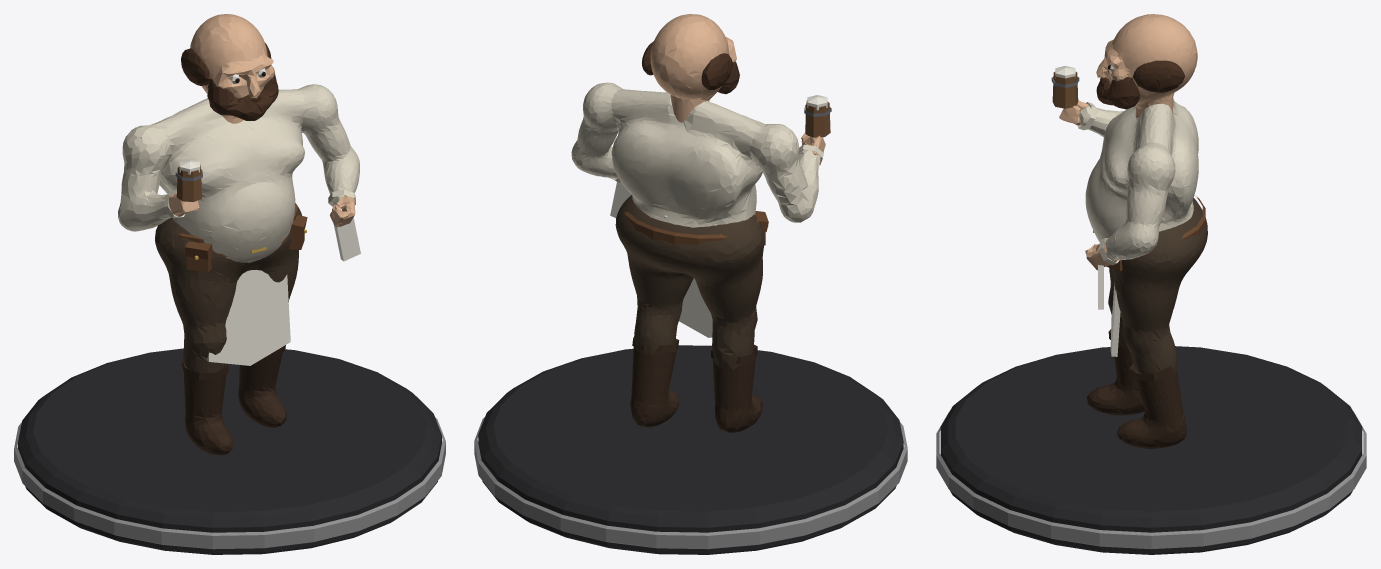
File: innkeeper.glb
3 renders of one model, left to right at view 1: azimuth 30°, elevation 25°; view 2: azimuth 150°, elevation 25°; view 3: azimuth 270°, elevation 25°, orthographic.
Visible parts, largest first — view 1: innkeeper; view 2: innkeeper; view 3: innkeeper.
Boxes of the visible parts, x1=… form: innkeeper: x1=14, y1=14, x2=445, y2=554; innkeeper: x1=474, y1=14, x2=907, y2=554; innkeeper: x1=936, y1=14, x2=1366, y2=554.
Bounding box in the file's own units: 0.856 × 0.9815 × 0.8498.
